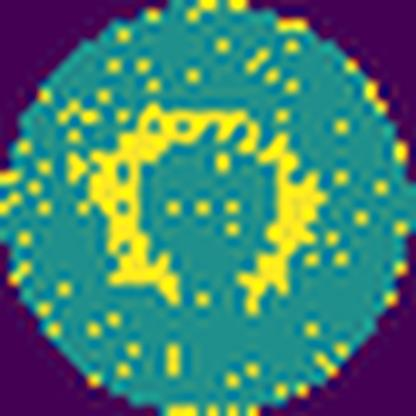Donut: (82, 97, 330, 321)
